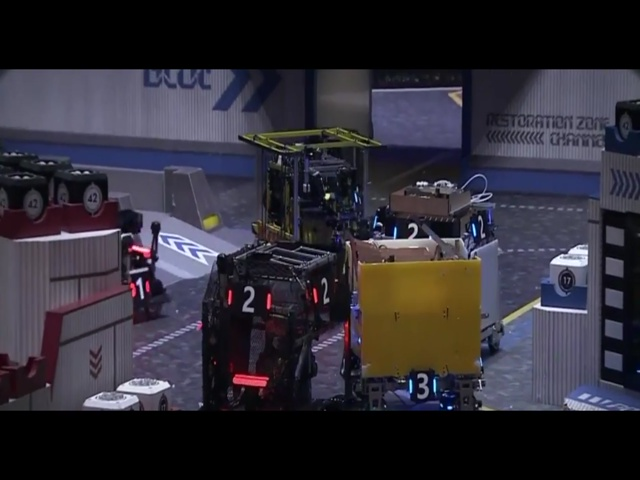plate: (224, 279, 274, 322), (406, 369, 439, 404), (308, 272, 338, 310), (390, 217, 434, 240), (127, 269, 152, 305), (468, 210, 492, 243)
